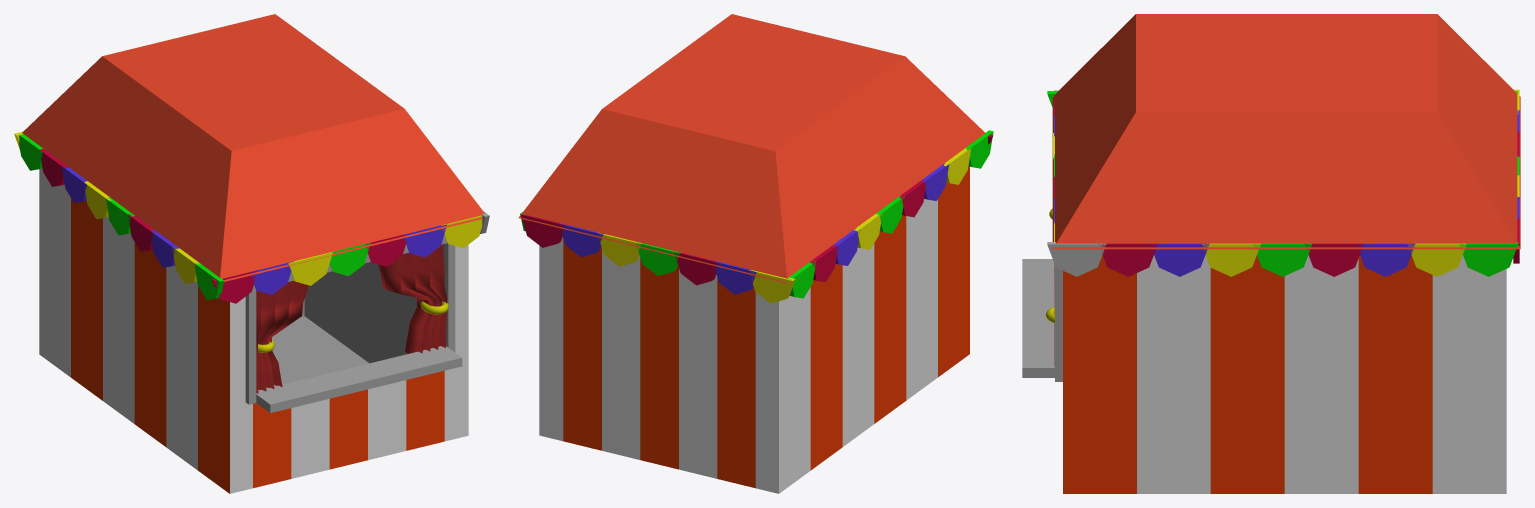
The model's file is TeatroNaranja7.fbx.
3 views of the same model, side by side, from view 1: azimuth 30°, elevation 25°; view 2: azimuth 150°, elevation 25°; view 3: azimuth 270°, elevation 25° (orthographic). The views are drawn at different scales.
Visible parts, largest first — view 1: Techo1, Escenario, Fondo, R_Curtain, L_Curtain, pCylinder30, pCylinder31, pCylinder33, pCylinder29, pCylinder32, pCylinder34, pCylinder28 (+9 smaller); view 2: Escenario, Techo1, pCylinder27, pCylinder21, pCylinder24, pCylinder25, pCylinder26, pCylinder23, pCylinder22, pCylinder16, pCylinder14, pCylinder18 (+6 smaller); view 3: Escenario, Techo1, pCylinder1, pCylinder9, pCylinder4, pCylinder2, pCylinder6, pCylinder8, pCylinder5, pCylinder7, pCylinder3.
Boxes of the visible parts, box(x1,y1,x2,y2) form: Techo1: box(22, 14, 484, 281); Escenario: box(39, 168, 468, 493); Fondo: box(258, 244, 444, 390); R_Curtain: box(378, 243, 446, 353); L_Curtain: box(256, 281, 308, 393); pCylinder30: box(288, 252, 332, 285); pCylinder31: box(403, 224, 446, 257); pCylinder33: box(326, 242, 370, 276); pCylinder29: box(250, 261, 293, 294); pCylinder32: box(441, 215, 482, 248); pCylinder34: box(365, 235, 406, 266); pCylinder28: box(211, 270, 257, 303); Escenario: box(539, 166, 969, 493); Techo1: box(518, 14, 985, 283); pCylinder27: box(749, 270, 795, 303); pCylinder21: box(520, 214, 565, 247); pCylinder24: box(636, 242, 680, 275); pCylinder25: box(674, 252, 718, 285); pCylinder26: box(713, 261, 756, 294); pCylinder23: box(597, 232, 641, 266); pCylinder22: box(559, 223, 603, 257); pCylinder16: box(809, 244, 838, 282); pCylinder14: box(876, 195, 904, 233); pCylinder18: box(899, 180, 926, 217); Escenario: box(1022, 255, 1506, 493); Techo1: box(1052, 14, 1520, 249); pCylinder1: box(1047, 242, 1106, 276); pCylinder9: box(1459, 242, 1518, 276); pCylinder4: box(1202, 243, 1260, 276); pCylinder2: box(1099, 243, 1157, 276); pCylinder6: box(1305, 243, 1363, 276); pCylinder8: box(1407, 243, 1466, 276); pCylinder5: box(1253, 243, 1312, 276); pCylinder7: box(1356, 243, 1415, 276); pCylinder3: box(1151, 243, 1209, 276).
Size of the model in its own units: 15.98 by 17.42 by 21.66.
